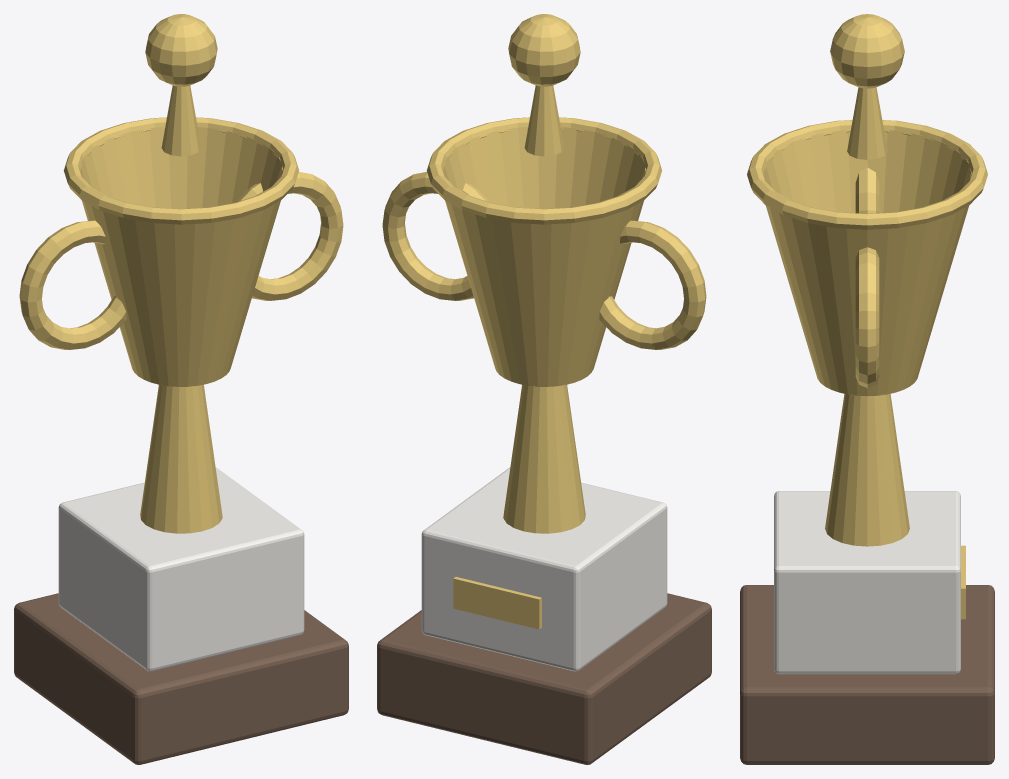
Rendered from s07-piala.glb.
The picture shows the model from 3 angles, left to right: view 1: azimuth 30°, elevation 25°; view 2: azimuth 150°, elevation 25°; view 3: azimuth 270°, elevation 25°; orthographic projection. The views are drawn at different scales.
Visible parts, largest first — view 1: EX_unri:emas, EX_unri:marmer, EX_unri:alas-kayu; view 2: EX_unri:emas, EX_unri:marmer, EX_unri:alas-kayu; view 3: EX_unri:emas, EX_unri:marmer, EX_unri:alas-kayu.
Boxes of the visible parts, left/top/right/bottom form: EX_unri:emas: left=19, top=14, right=343, bottom=533; EX_unri:marmer: left=58, top=467, right=304, bottom=671; EX_unri:alas-kayu: left=14, top=593, right=348, bottom=764; EX_unri:emas: left=382, top=14, right=706, bottom=629; EX_unri:marmer: left=421, top=467, right=667, bottom=671; EX_unri:alas-kayu: left=377, top=593, right=711, bottom=764; EX_unri:emas: left=747, top=14, right=987, bottom=619; EX_unri:marmer: left=774, top=491, right=960, bottom=674; EX_unri:alas-kayu: left=740, top=585, right=994, bottom=764.
Bounding box in the file's own units: 0.224 × 0.452 × 0.15.
